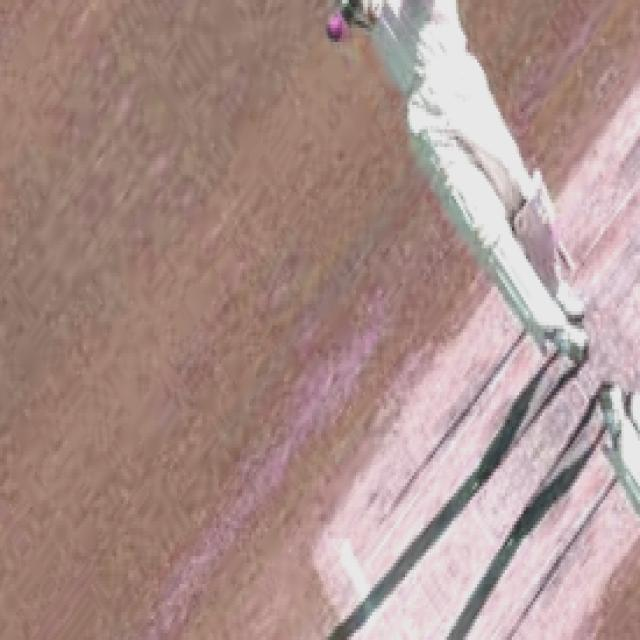toe: (388, 56, 426, 100)
